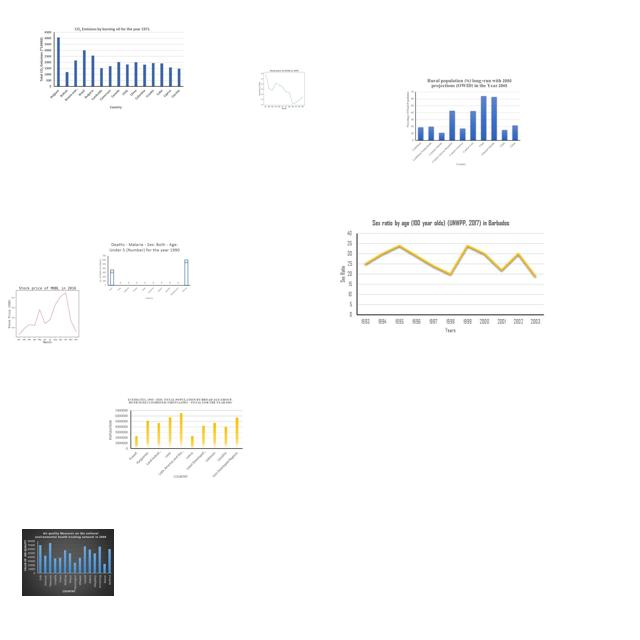Graph: (336, 218, 547, 337), (38, 26, 185, 110), (108, 397, 246, 479), (405, 77, 522, 167), (22, 529, 114, 596), (96, 240, 192, 300), (6, 283, 87, 344), (255, 67, 312, 110)
